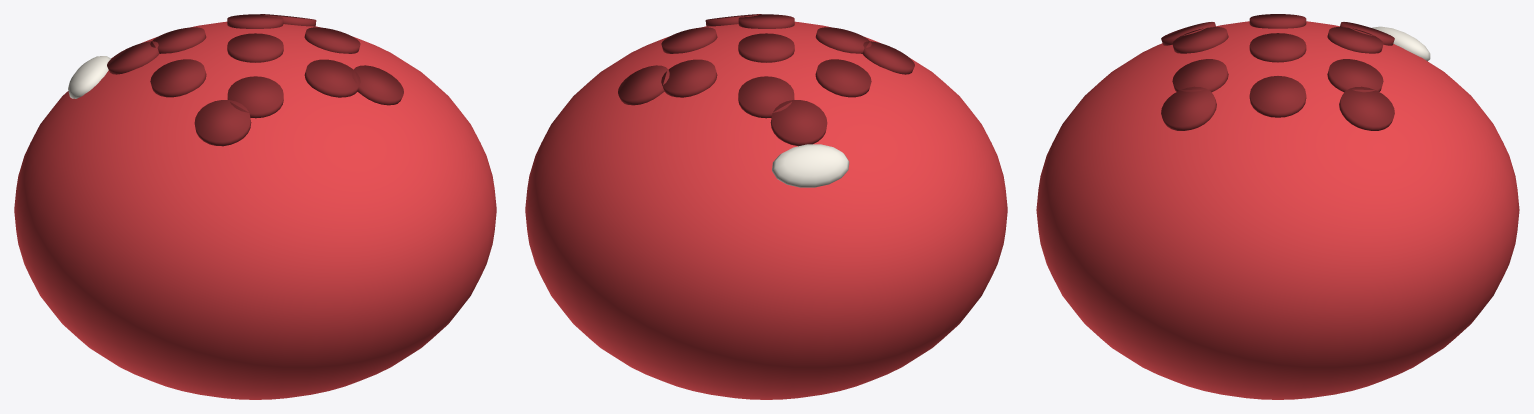
File: peg.glb
3 renders of one model, left to right at view 1: azimuth 30°, elevation 25°; view 2: azimuth 150°, elevation 25°; view 3: azimuth 270°, elevation 25°, orthographic.
Parts seen in each view (by area): view 1: Peg_Body, Peg_Mark_7, Peg_Mark_6, Peg_Mark_2, Peg_Mark_4, Peg_Mark_1, Peg_Shine; view 2: Peg_Body, Peg_Mark_7, Peg_Shine, Peg_Mark_6, Peg_Mark_4, Peg_Mark_2, Peg_Mark_1; view 3: Peg_Body, Peg_Mark_7, Peg_Mark_6, Peg_Mark_2, Peg_Mark_4, Peg_Mark_1, Peg_Shine, Peg_Mark_3.
Part boxes in pixels (bbox=[...]): Peg_Body: bbox=[14, 21, 496, 399]; Peg_Mark_7: bbox=[150, 14, 360, 118]; Peg_Mark_6: bbox=[150, 27, 360, 97]; Peg_Mark_2: bbox=[107, 41, 403, 105]; Peg_Mark_4: bbox=[194, 14, 316, 146]; Peg_Mark_1: bbox=[227, 33, 283, 62]; Peg_Shine: bbox=[68, 56, 110, 98]; Peg_Body: bbox=[525, 21, 1007, 399]; Peg_Mark_7: bbox=[661, 14, 871, 118]; Peg_Shine: bbox=[772, 144, 849, 187]; Peg_Mark_6: bbox=[661, 27, 871, 97]; Peg_Mark_4: bbox=[618, 41, 914, 105]; Peg_Mark_2: bbox=[705, 14, 827, 146]; Peg_Mark_1: bbox=[738, 33, 794, 62]; Peg_Body: bbox=[1036, 21, 1519, 399]; Peg_Mark_7: bbox=[1172, 18, 1383, 116]; Peg_Mark_6: bbox=[1249, 14, 1305, 117]; Peg_Mark_2: bbox=[1161, 22, 1394, 130]; Peg_Mark_4: bbox=[1161, 22, 1394, 130]; Peg_Mark_1: bbox=[1250, 33, 1306, 61]; Peg_Shine: bbox=[1372, 26, 1430, 61]; Peg_Mark_3: bbox=[1249, 36, 1306, 62].
Size of the model in its own units: 0.6 by 0.446 by 0.6.
